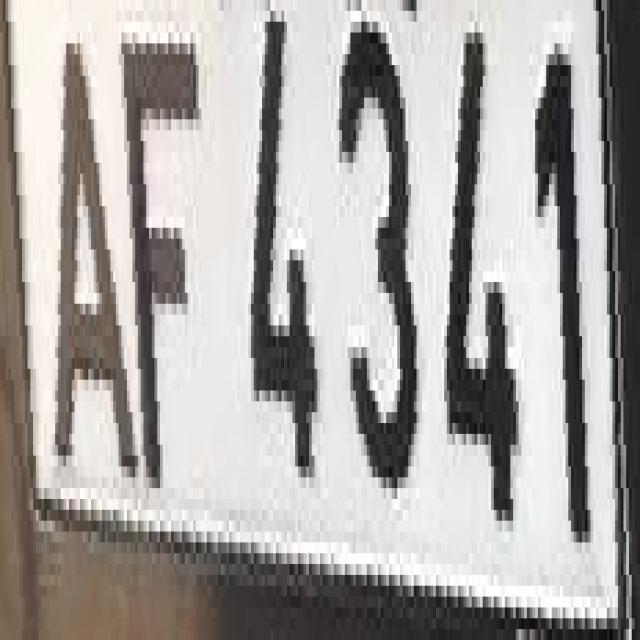license_plate: (16, 0, 640, 596)
